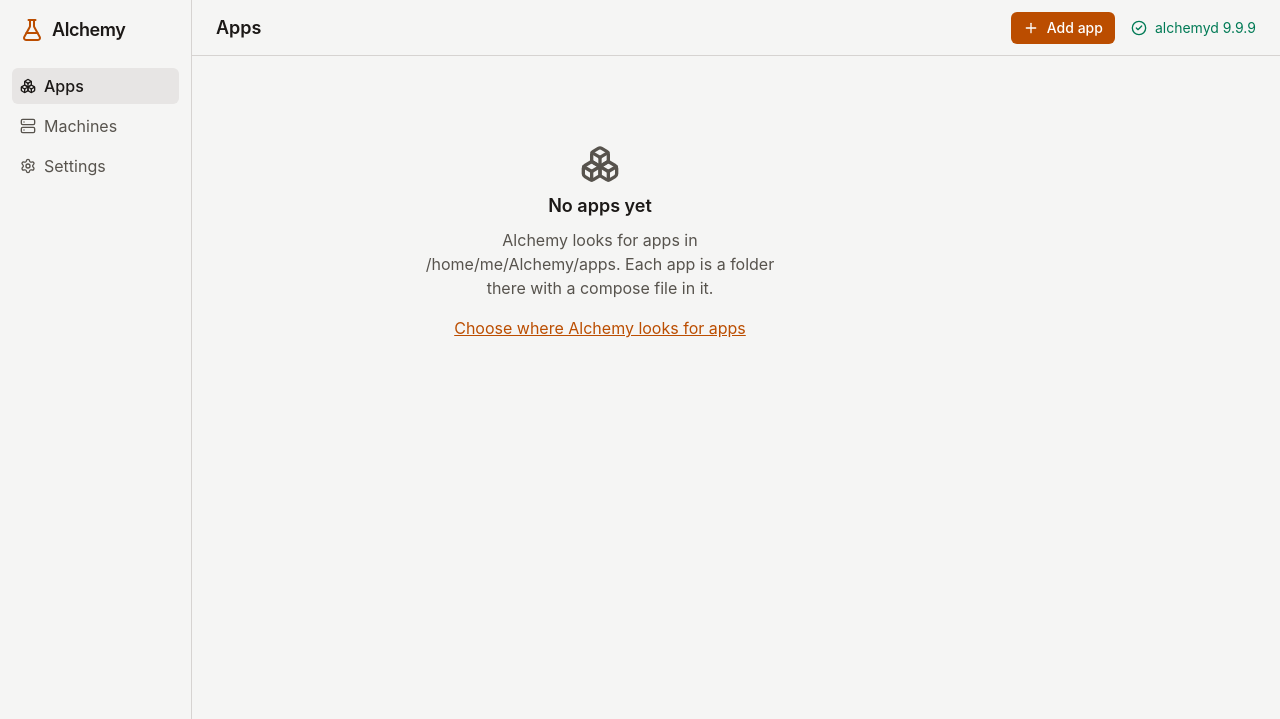
Scenario: AddApp › creates and starts an app, then shows its progress
Expected: the navigation bar named "Main" is shown, [12,68,179,184]
Click the button "Add app" at (1063, 28), box [1011,12,1115,44]
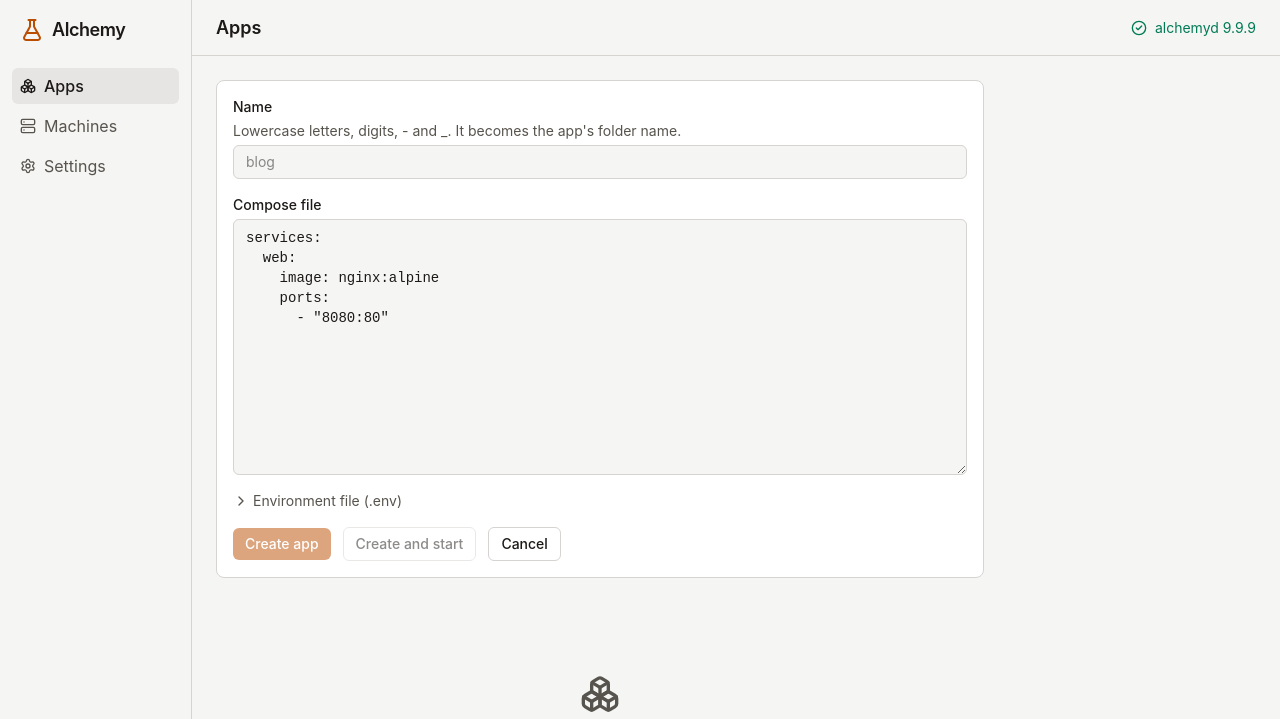
Type "shop" into the field labelled "Name" at (600, 162), box [233,145,967,179]
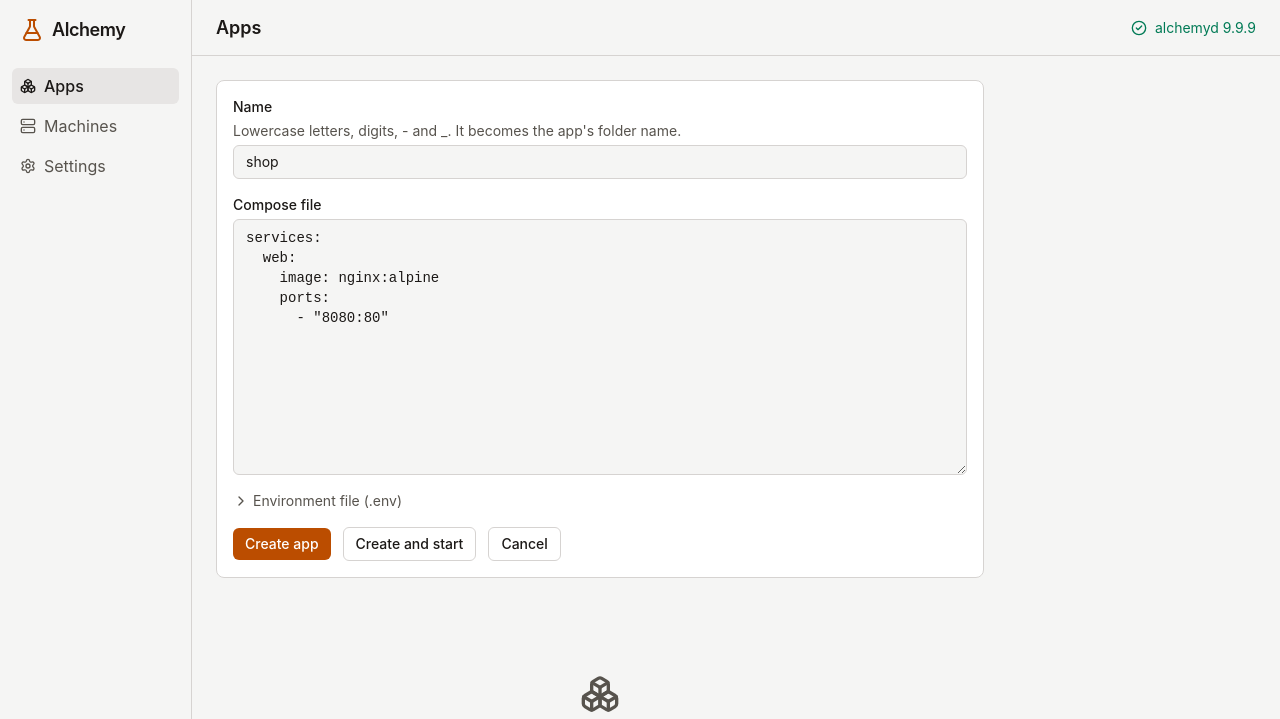
Click the button "Create and start" at (410, 544), box [343,527,476,561]
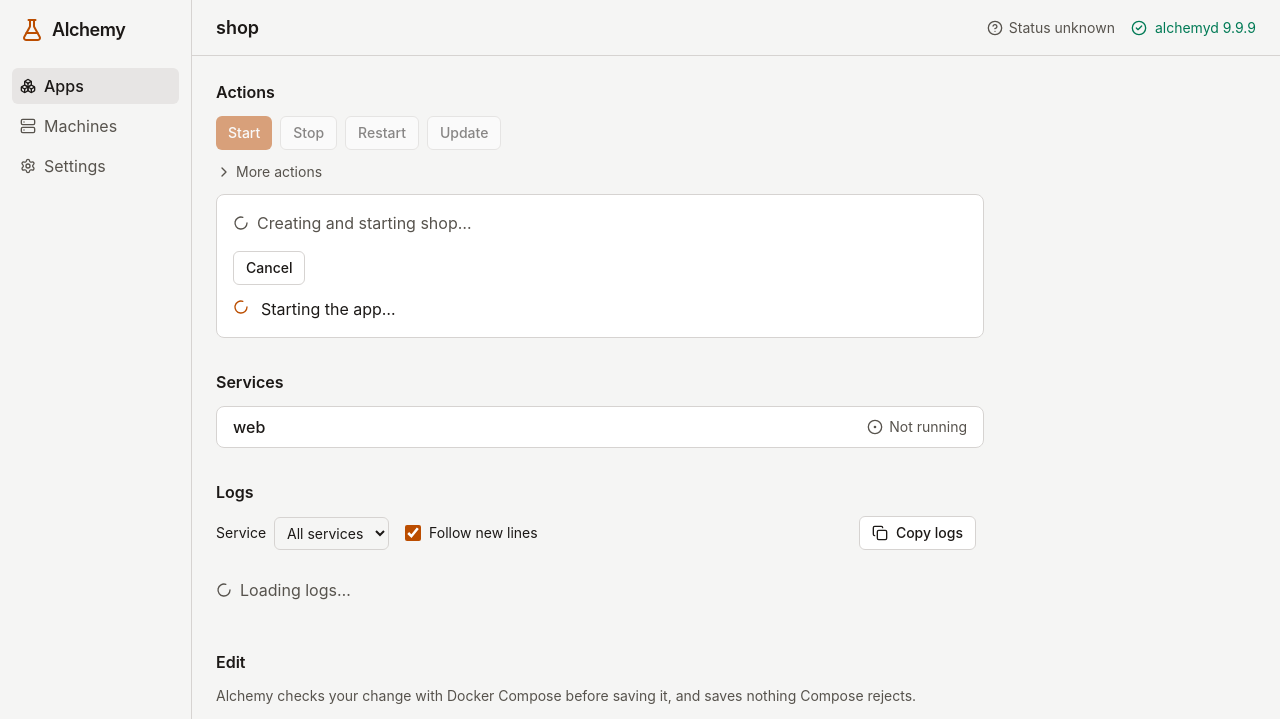
Expected: the text "Creating and starting shop…" is shown, [233,213,472,233]
